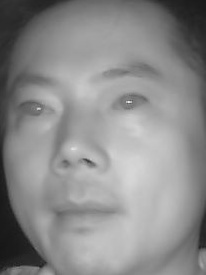eye: (106, 92, 151, 115), (15, 97, 55, 119)
mouth: (47, 186, 124, 232)
